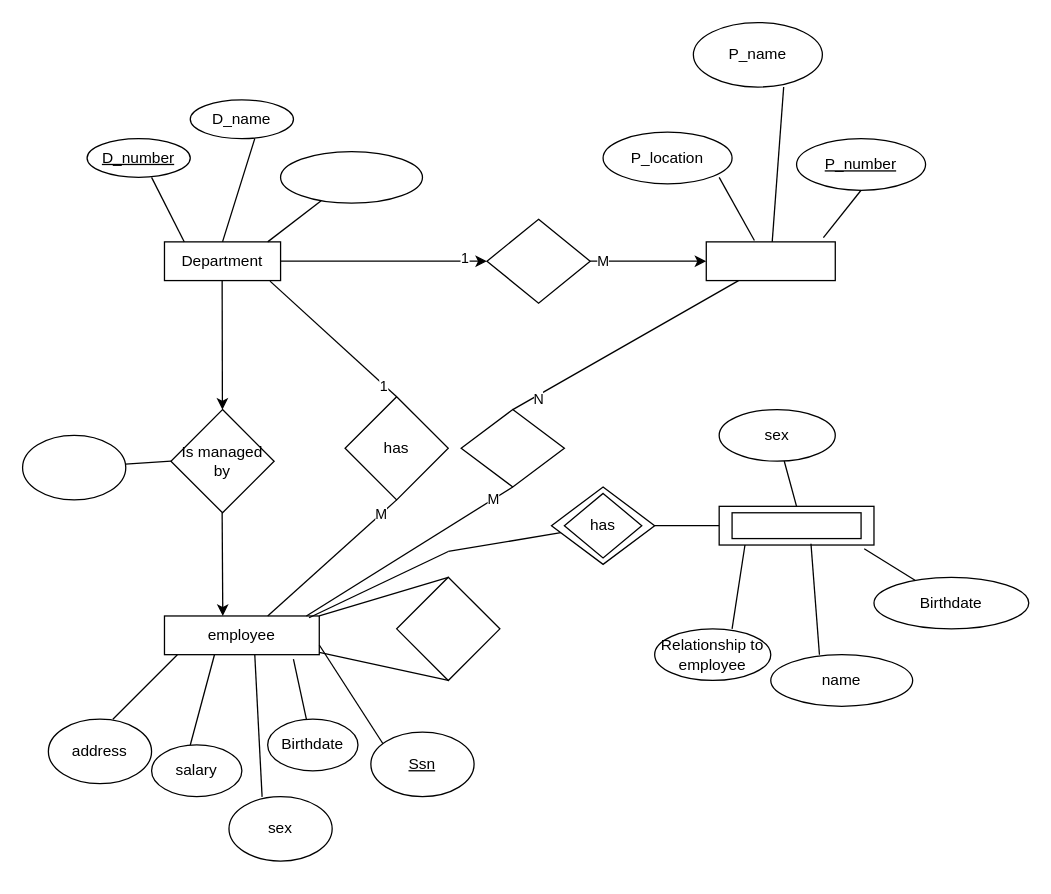
Some shapes in this 1051 by 894 pixel diagram are drawn without their labels. Each missing label, with the box of its shape:
controls: (486, 218, 590, 303)
Dependent: (731, 511, 861, 539)
employee_name: (279, 150, 422, 203)
Mstart_date: (21, 434, 126, 500)
project: (705, 241, 835, 281)
supervise: (395, 576, 500, 680)
worked by: (460, 408, 564, 487)
